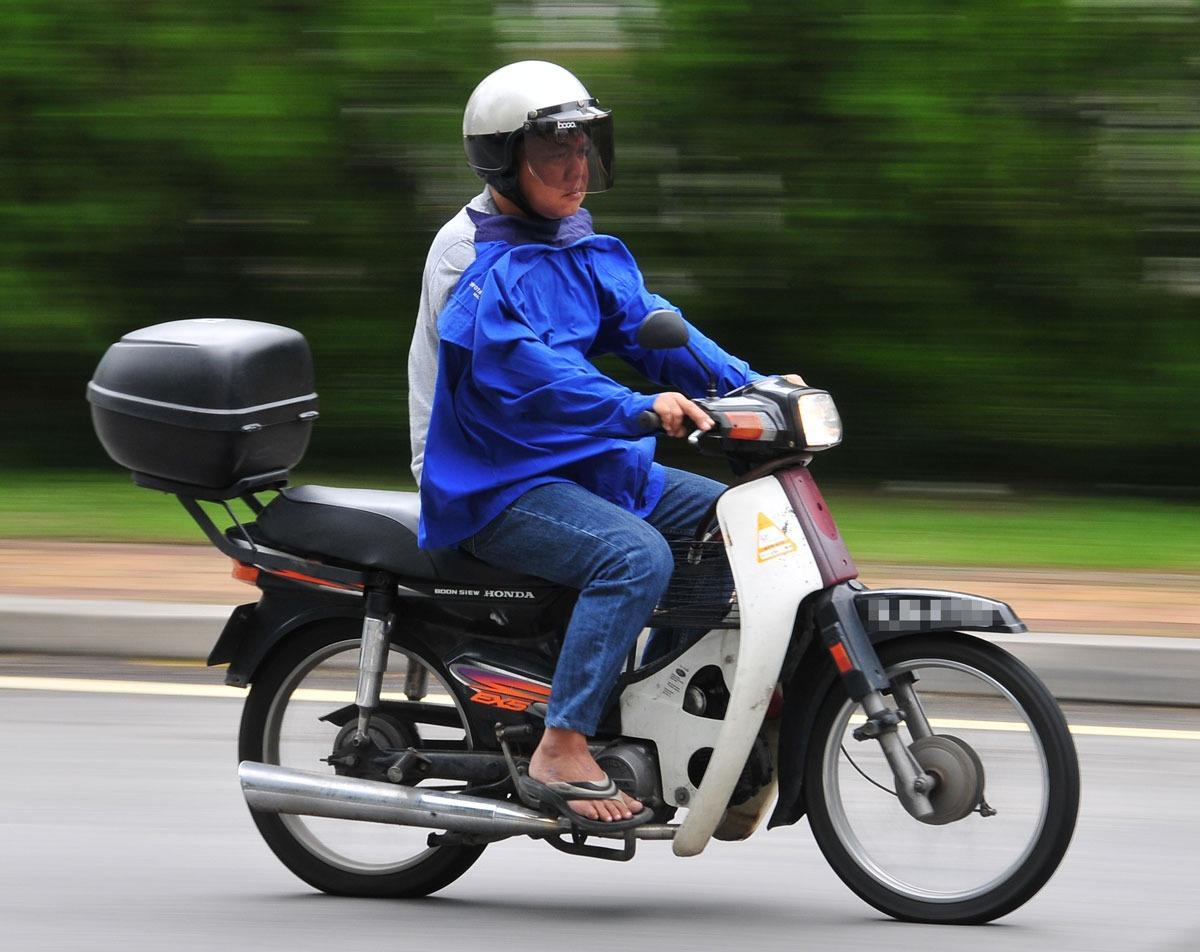helmet: (462, 59, 617, 224)
